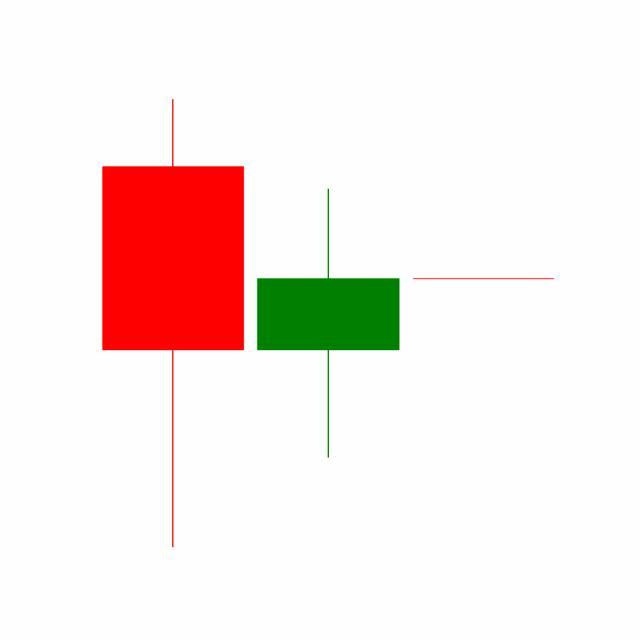Spinning Top: (250, 187, 407, 462)
